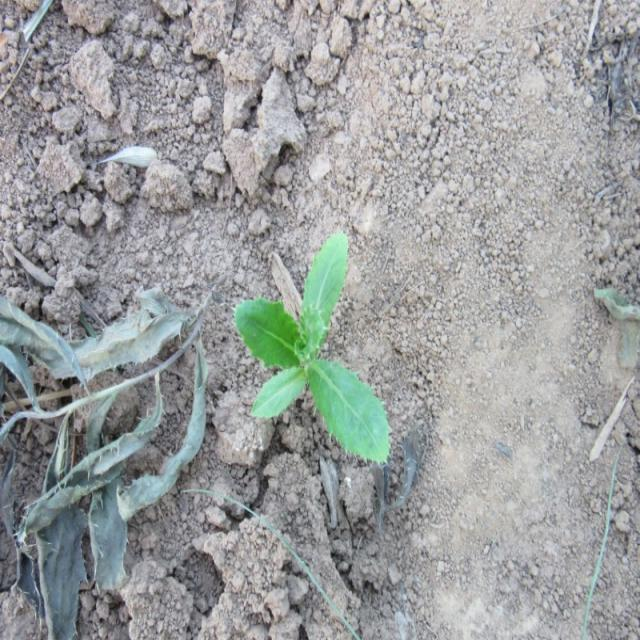cs: (230, 228, 394, 468)
